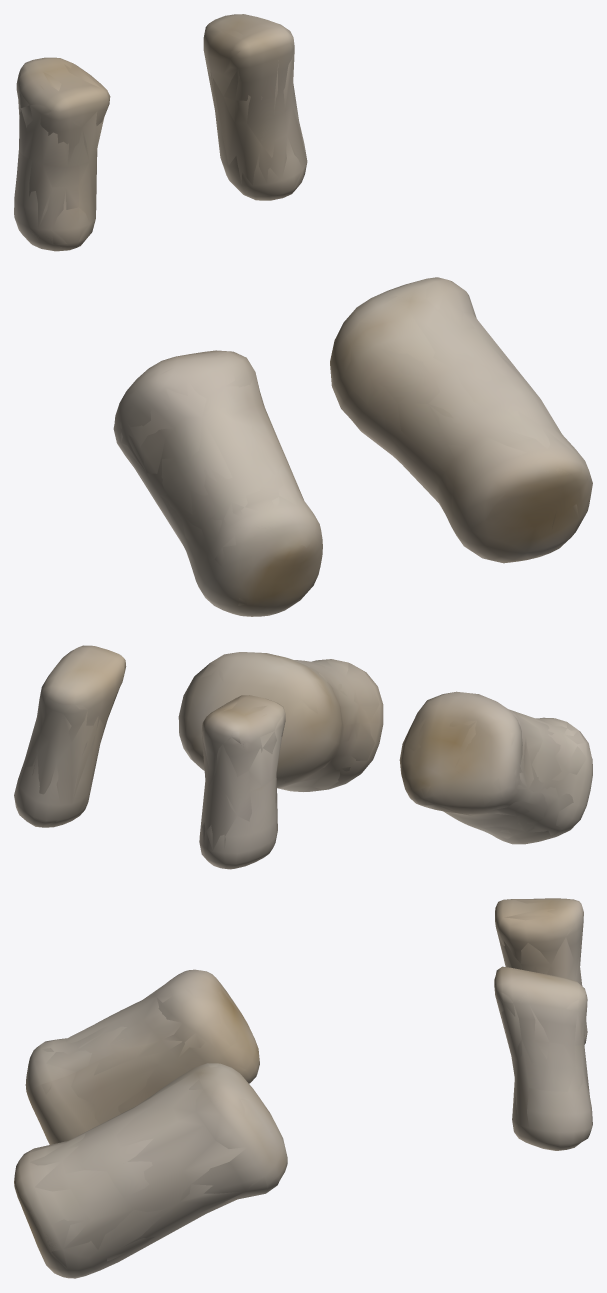
Rendered from FL 2nd Phalanx.fbx.
3 renders of one model, top to bottom at view 1: azimuth 30°, elevation 25°; view 2: azimuth 150°, elevation 25°; view 3: azimuth 270°, elevation 25°, orthographic. The views are drawn at different scales.
Visible parts, largest first — view 1: FL 2nd Phalanx, FL 2nd Phalanx low; view 2: FL 2nd Phalanx, FL 2nd Phalanx low; view 3: FL 2nd Phalanx, FL 2nd Phalanx low.
Boxes of the visible parts, left/top/right/bottom form: FL 2nd Phalanx: left=14, top=14, right=592, bottom=616; FL 2nd Phalanx low: left=15, top=14, right=591, bottom=616; FL 2nd Phalanx: left=14, top=645, right=592, bottom=869; FL 2nd Phalanx low: left=17, top=652, right=592, bottom=867; FL 2nd Phalanx: left=14, top=898, right=592, bottom=1278; FL 2nd Phalanx low: left=20, top=899, right=589, bottom=1269.
Bounding box in the file's own units: 2.69 × 2.34 × 4.14.
